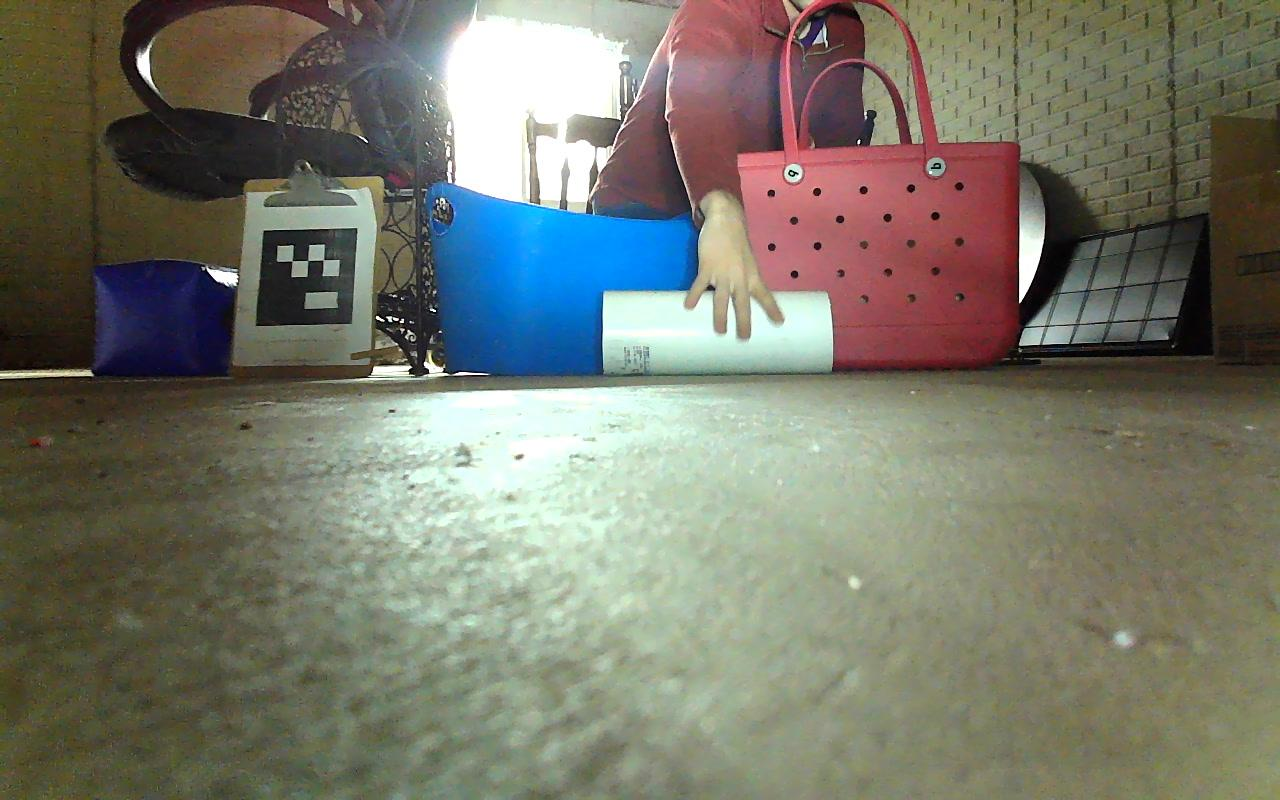coral: (603, 288, 833, 375)
